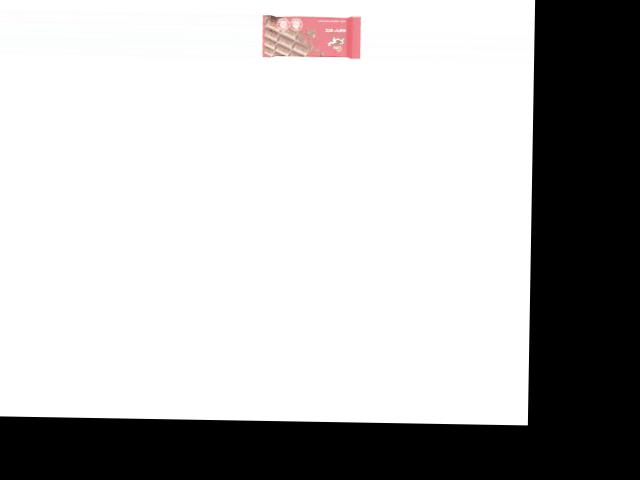chocolate: (262, 14, 363, 58)
